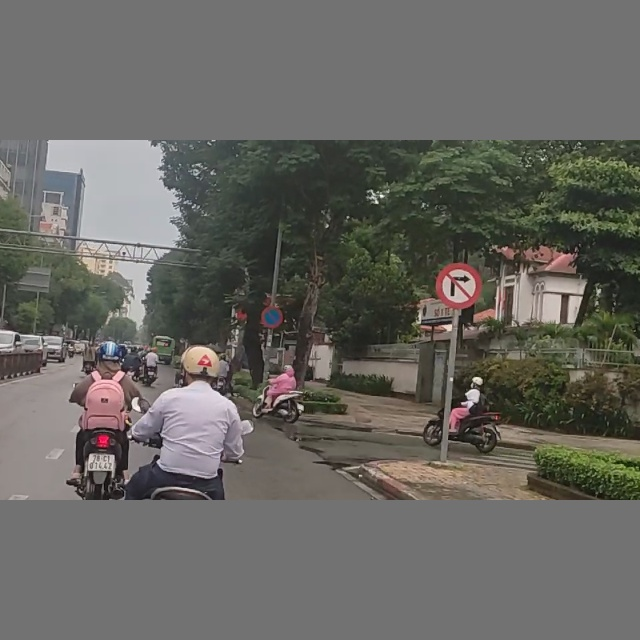P.123b: (433, 262, 482, 308)
P.131a: (261, 307, 283, 328)
